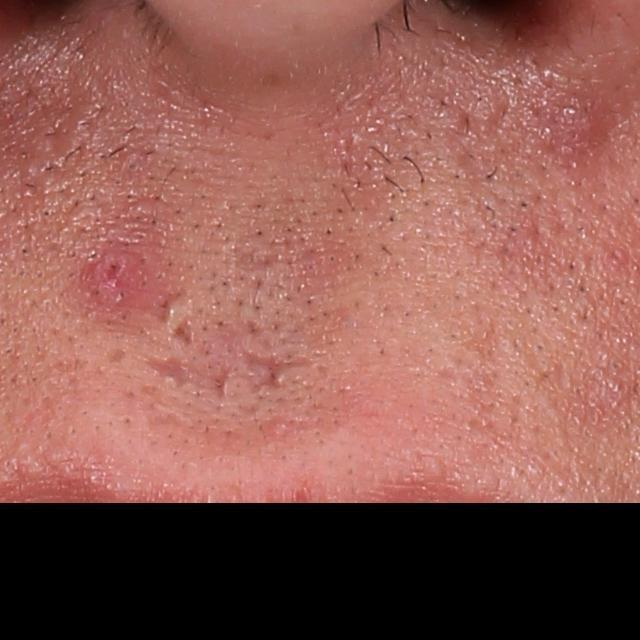atrophic_scar: (241, 349, 320, 389), (142, 285, 190, 328), (143, 354, 192, 390), (173, 315, 200, 347), (213, 360, 233, 397), (106, 346, 127, 366)
papule: (77, 230, 153, 303), (561, 93, 609, 153)
